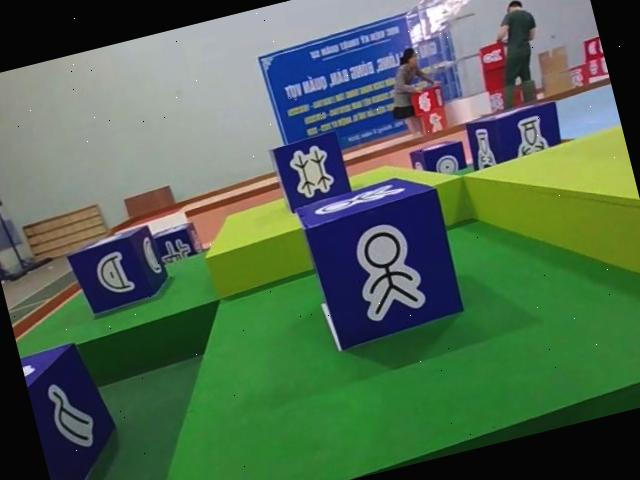R2 Real Blue: (290, 170, 468, 358), (18, 336, 134, 480), (62, 224, 172, 322), (269, 130, 355, 218), (466, 96, 569, 169), (405, 137, 465, 181), (149, 221, 205, 267)
